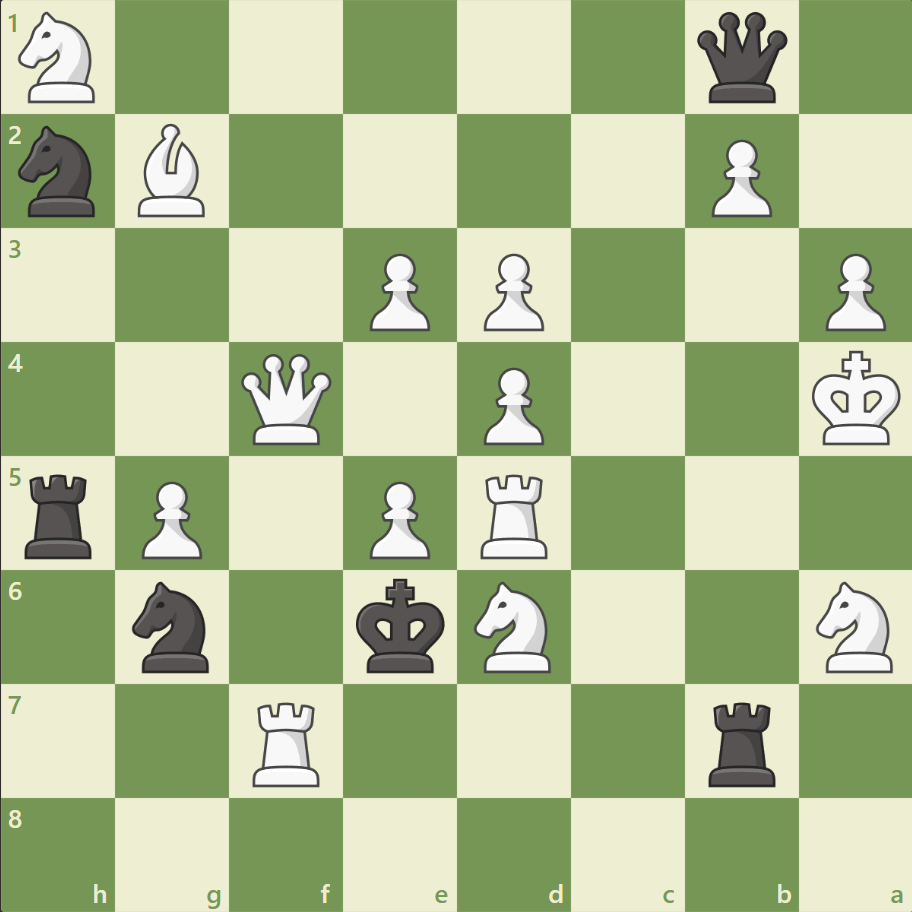B: (131, 120, 215, 222)
K: (806, 344, 906, 452)
N: (11, 7, 108, 110), (806, 575, 903, 677), (465, 575, 562, 677)
P: (133, 473, 208, 564), (474, 359, 549, 450), (474, 246, 549, 337), (701, 132, 776, 223), (361, 473, 435, 564), (815, 246, 889, 337), (361, 246, 435, 337)
Q: (237, 349, 336, 449)
R: (246, 693, 329, 790), (473, 466, 556, 563)
k: (351, 571, 451, 679)
n: (124, 575, 222, 677), (11, 121, 108, 223)
q: (691, 9, 790, 108)
r: (700, 693, 783, 790), (19, 466, 102, 563)
